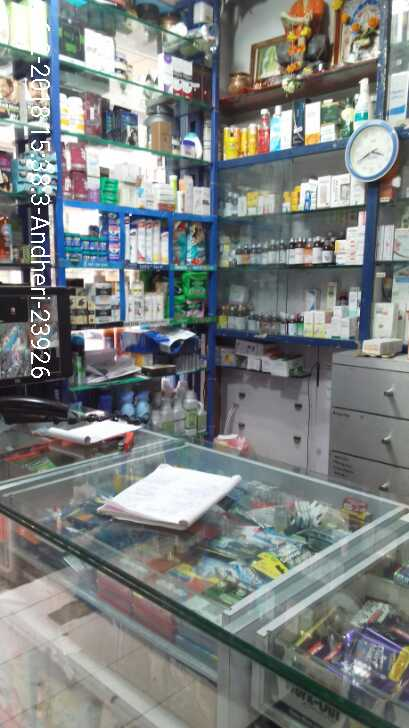vicks: (65, 211, 119, 261)
